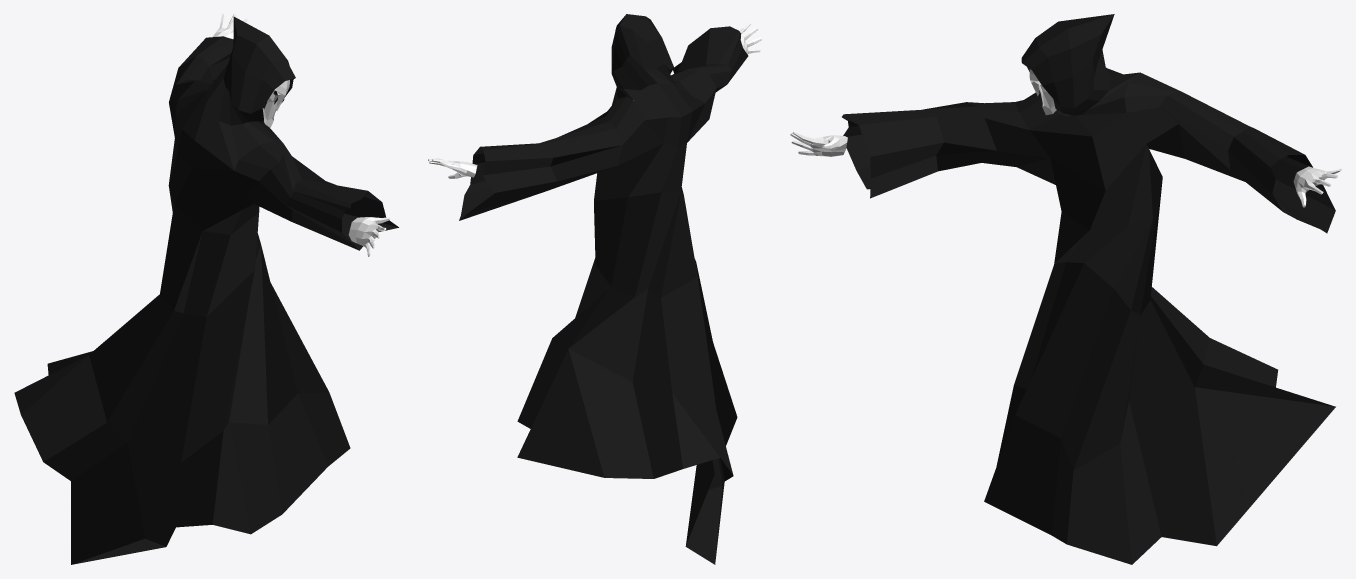
File: ReaperAttack(29).obj
3 views of the same model, side by side, from view 1: azimuth 30°, elevation 25°; view 2: azimuth 150°, elevation 25°; view 3: azimuth 270°, elevation 25° (orthographic). The views are drawn at different scales.
Visible parts, largest first — view 1: Plane003; view 2: Plane003; view 3: Plane003.
Part boxes in pixels (bbox=[...]): Plane003: bbox=[14, 14, 398, 564]; Plane003: bbox=[428, 14, 761, 564]; Plane003: bbox=[790, 14, 1341, 564].
Bounding box in the file's own units: 124 × 231 × 197.
